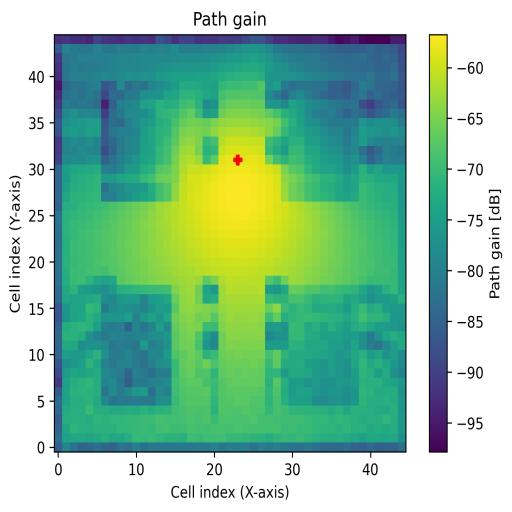Concrete: (281, 81, 359, 202)
Glass: (102, 81, 179, 202)
Metal: (281, 286, 360, 404)
Wood: (101, 284, 172, 404)
